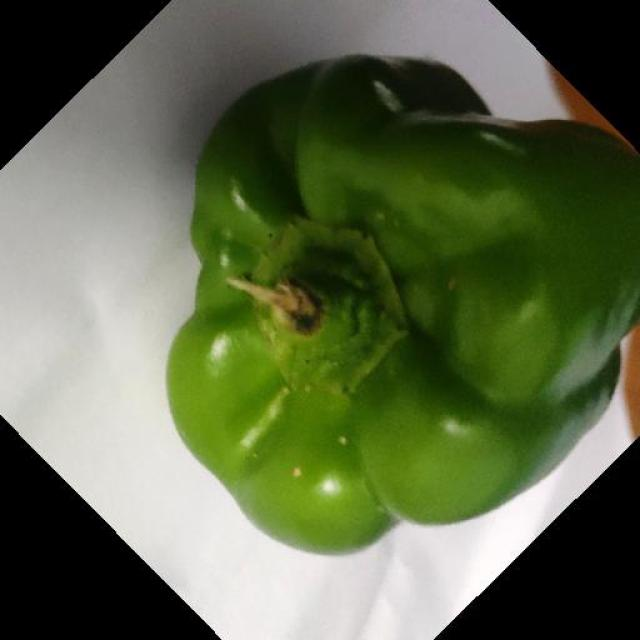Fresh_Capsicum: (203, 63, 640, 507)
